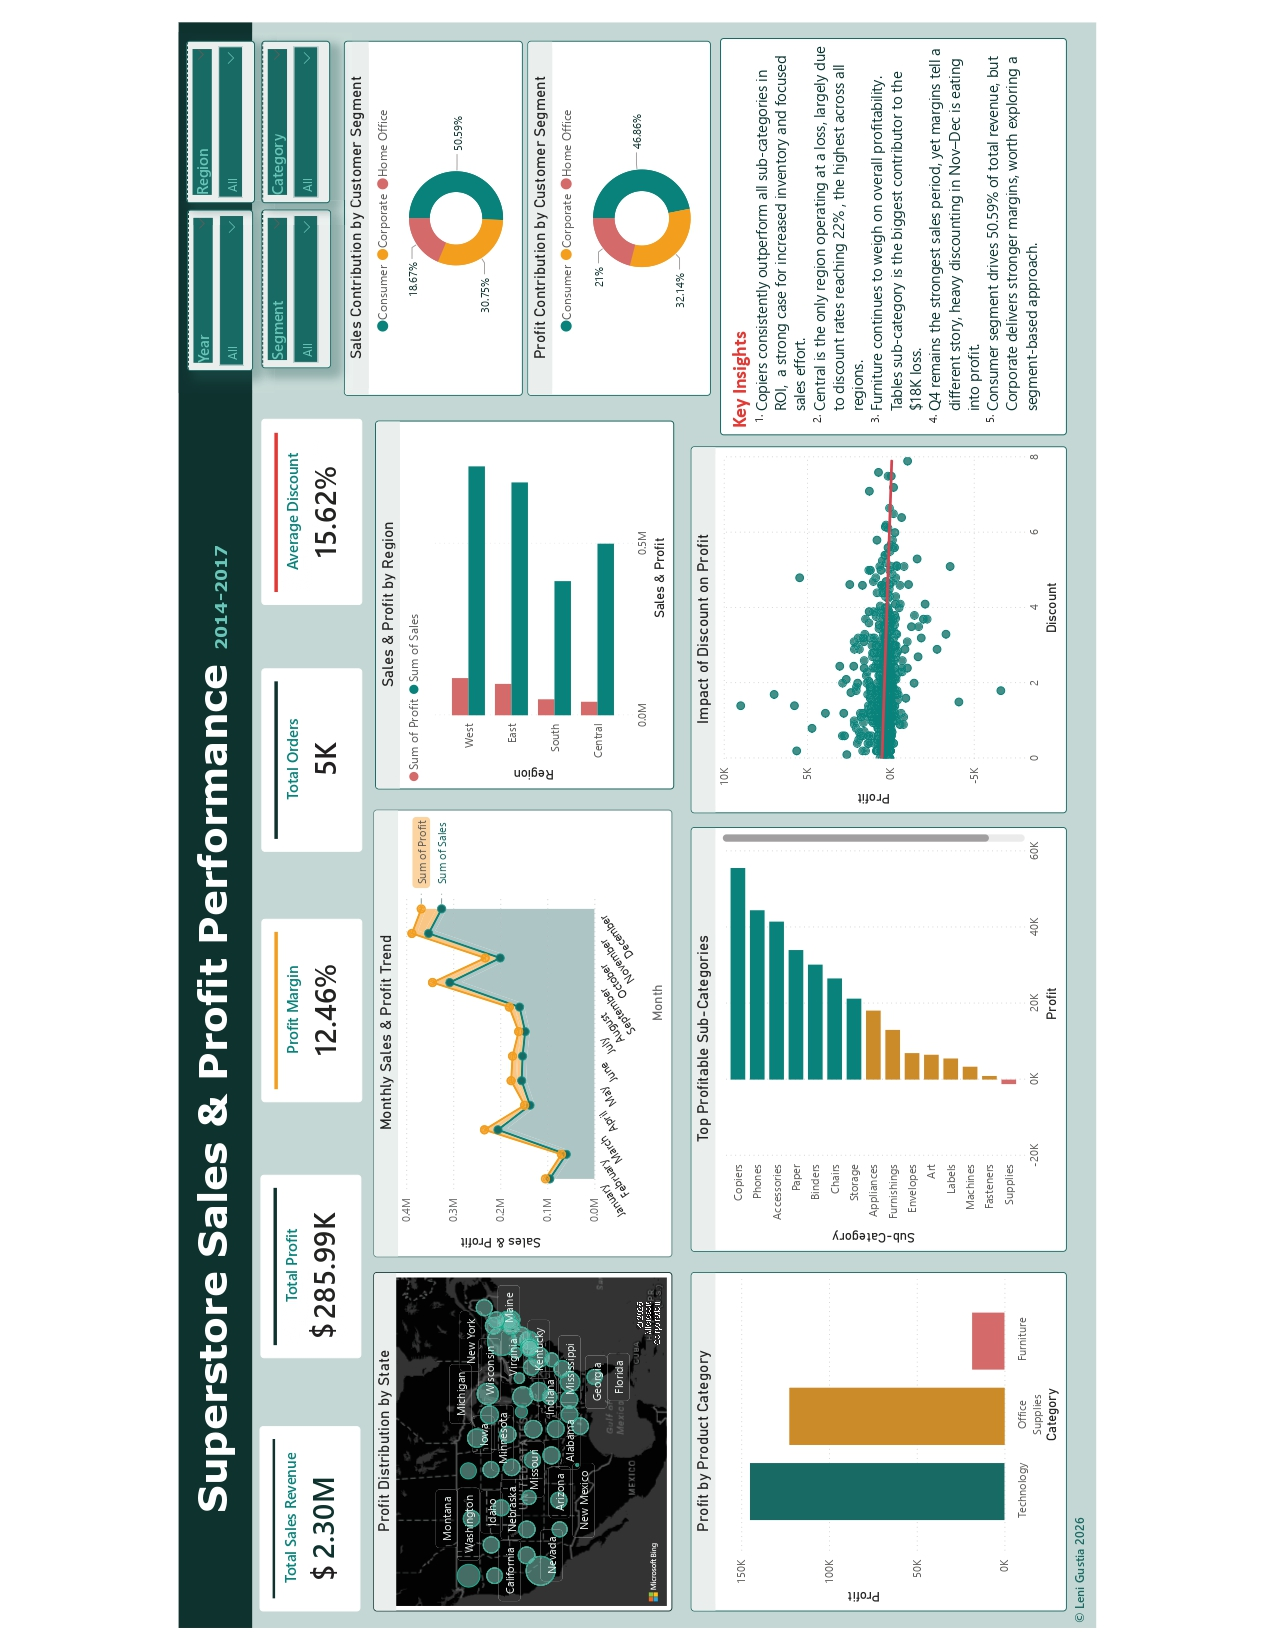

What the dashboard file says about the page in this screenshot:
{"tool":"powerbi","page":{"name":"Page 1","canvas":[1750,1000],"ordinal":0},"visuals":[{"type":"cardVisual","fields":{"Data":["Data Superstore.Total Sales"]},"box":[17.5,87.5,202.5,110],"z":0},{"type":"stackedAreaChart","title":"Monthly Sales & Profit Trend","fields":{"Category":["Data Superstore.Order Date.Variation.Date Hierarchy.Month"],"Y":["Sum(Data Superstore.Sales)","Sum(Data Superstore.Profit)"]},"box":[404,212,488,326],"z":1000},{"type":"actionButton","box":[0,0,100,40],"z":2000},{"type":"clusteredColumnChart","title":"Profit by Product Category","fields":{"Category":["Data Superstore.Category"],"Y":["Sum(Data Superstore.Profit)"]},"box":[17.5,557.5,370,410],"z":3000},{"type":"donutChart","title":"Sales Contribution by Customer Segment","fields":{"Category":["Data Superstore.Segment"],"Y":["Sum(Data Superstore.Sales)"]},"box":[1342.5,180,387.5,195],"z":4000},{"type":"scatterChart","title":"Impact of Discount on Profit","fields":{"X":["Sum(Data Superstore.Discount)"],"Y":["Sum(Data Superstore.Profit)"],"Category":["Data Superstore.Customer ID"]},"box":[887.5,557.5,400,410],"z":5000},{"type":"clusteredBarChart","title":"Sales & Profit by Region","fields":{"Category":["Data Superstore.Region"],"Y":["Sum(Data Superstore.Profit)","Sum(Data Superstore.Sales)"]},"box":[914,214,402,326],"z":6000},{"type":"map","title":"Profit Distribution by State","fields":{"Category":["Data Superstore.State"],"Size":["Sum(Data Superstore.Profit)"]},"box":[18,212,370,326],"z":7000},{"type":"barChart","title":"Top Profitable Sub-Categories","fields":{"Category":["Data Superstore.Sub-Category"],"Y":["Sum(Data Superstore.Profit)"]},"box":[410,557.5,462.5,410],"z":8000},{"type":"textbox","box":[1300,590,432.5,377.5],"z":9000},{"type":"textbox","box":[0,0,1750,80],"z":10000},{"type":"textbox","box":[34.3,128.6,52.9,70],"z":11000},{"type":"slicer","fields":{"Values":["Data Superstore.Order Date.Variation.Date Hierarchy.Year"]},"box":[1370,8.6,175.7,72.9],"z":12000},{"type":"cardVisual","fields":{"Data":["Data Superstore.Total Profit"]},"box":[294.3,88.6,200,110],"z":13000},{"type":"cardVisual","fields":{"Data":["Data Superstore.Profit Margin"]},"box":[572.9,90,200,110],"z":14000},{"type":"cardVisual","fields":{"Data":["Data Superstore.Total Orders"]},"box":[845.7,90,200,110],"z":15000},{"type":"cardVisual","fields":{"Data":["Data Superstore.Average Discount"]},"box":[1115,90,202.5,110],"z":16000},{"type":"slicer","fields":{"Values":["Data Superstore.Region"]},"box":[1552.5,7.5,177.5,75],"z":17000},{"type":"slicer","fields":{"Values":["Data Superstore.Segment"]},"box":[1372.9,90,172.9,75.7],"z":18000},{"type":"slicer","fields":{"Values":["Data Superstore.Category"]},"box":[1552.5,90,177.5,75],"z":19000},{"type":"textbox","box":[120,5,1360,70],"z":20000},{"type":"textbox","box":[297.5,127.5,52.5,70],"z":21000},{"type":"textbox","box":[0,967.5,175,32.5],"z":22000},{"type":"donutChart","title":"Profit Contribution by Customer Segment","fields":{"Category":["Data Superstore.Segment"],"Y":["Sum(Data Superstore.Profit)"]},"box":[1342.5,380,387.5,200],"z":23000}]}

Visuals, with their boxes on the page's 1750x1000 design canvas (x1, y1, x2, y2). These are canvas units, not pixel positions in the 1275x1650 screenshot, which may show the page scaled, cropped or inside an application window:
cardVisual - Data Superstore.Total Sales: bbox=(18, 88, 220, 198)
"Monthly Sales & Profit Trend" stackedAreaChart: bbox=(404, 212, 892, 538)
actionButton: bbox=(0, 0, 100, 40)
"Profit by Product Category" clusteredColumnChart: bbox=(18, 558, 388, 968)
"Sales Contribution by Customer Segment" donutChart: bbox=(1342, 180, 1730, 375)
"Impact of Discount on Profit" scatterChart: bbox=(888, 558, 1288, 968)
"Sales & Profit by Region" clusteredBarChart: bbox=(914, 214, 1316, 540)
"Profit Distribution by State" map: bbox=(18, 212, 388, 538)
"Top Profitable Sub-Categories" barChart: bbox=(410, 558, 872, 968)
textbox: bbox=(1300, 590, 1732, 968)
textbox: bbox=(0, 0, 1750, 80)
textbox: bbox=(34, 129, 87, 199)
slicer - Data Superstore.Order Date.Variation.Date Hierarchy.Year: bbox=(1370, 9, 1546, 82)
cardVisual - Data Superstore.Total Profit: bbox=(294, 89, 494, 199)
cardVisual - Data Superstore.Profit Margin: bbox=(573, 90, 773, 200)
cardVisual - Data Superstore.Total Orders: bbox=(846, 90, 1046, 200)
cardVisual - Data Superstore.Average Discount: bbox=(1115, 90, 1318, 200)
slicer - Data Superstore.Region: bbox=(1552, 8, 1730, 82)
slicer - Data Superstore.Segment: bbox=(1373, 90, 1546, 166)
slicer - Data Superstore.Category: bbox=(1552, 90, 1730, 165)
textbox: bbox=(120, 5, 1480, 75)
textbox: bbox=(298, 128, 350, 198)
textbox: bbox=(0, 968, 175, 1000)
"Profit Contribution by Customer Segment" donutChart: bbox=(1342, 380, 1730, 580)
